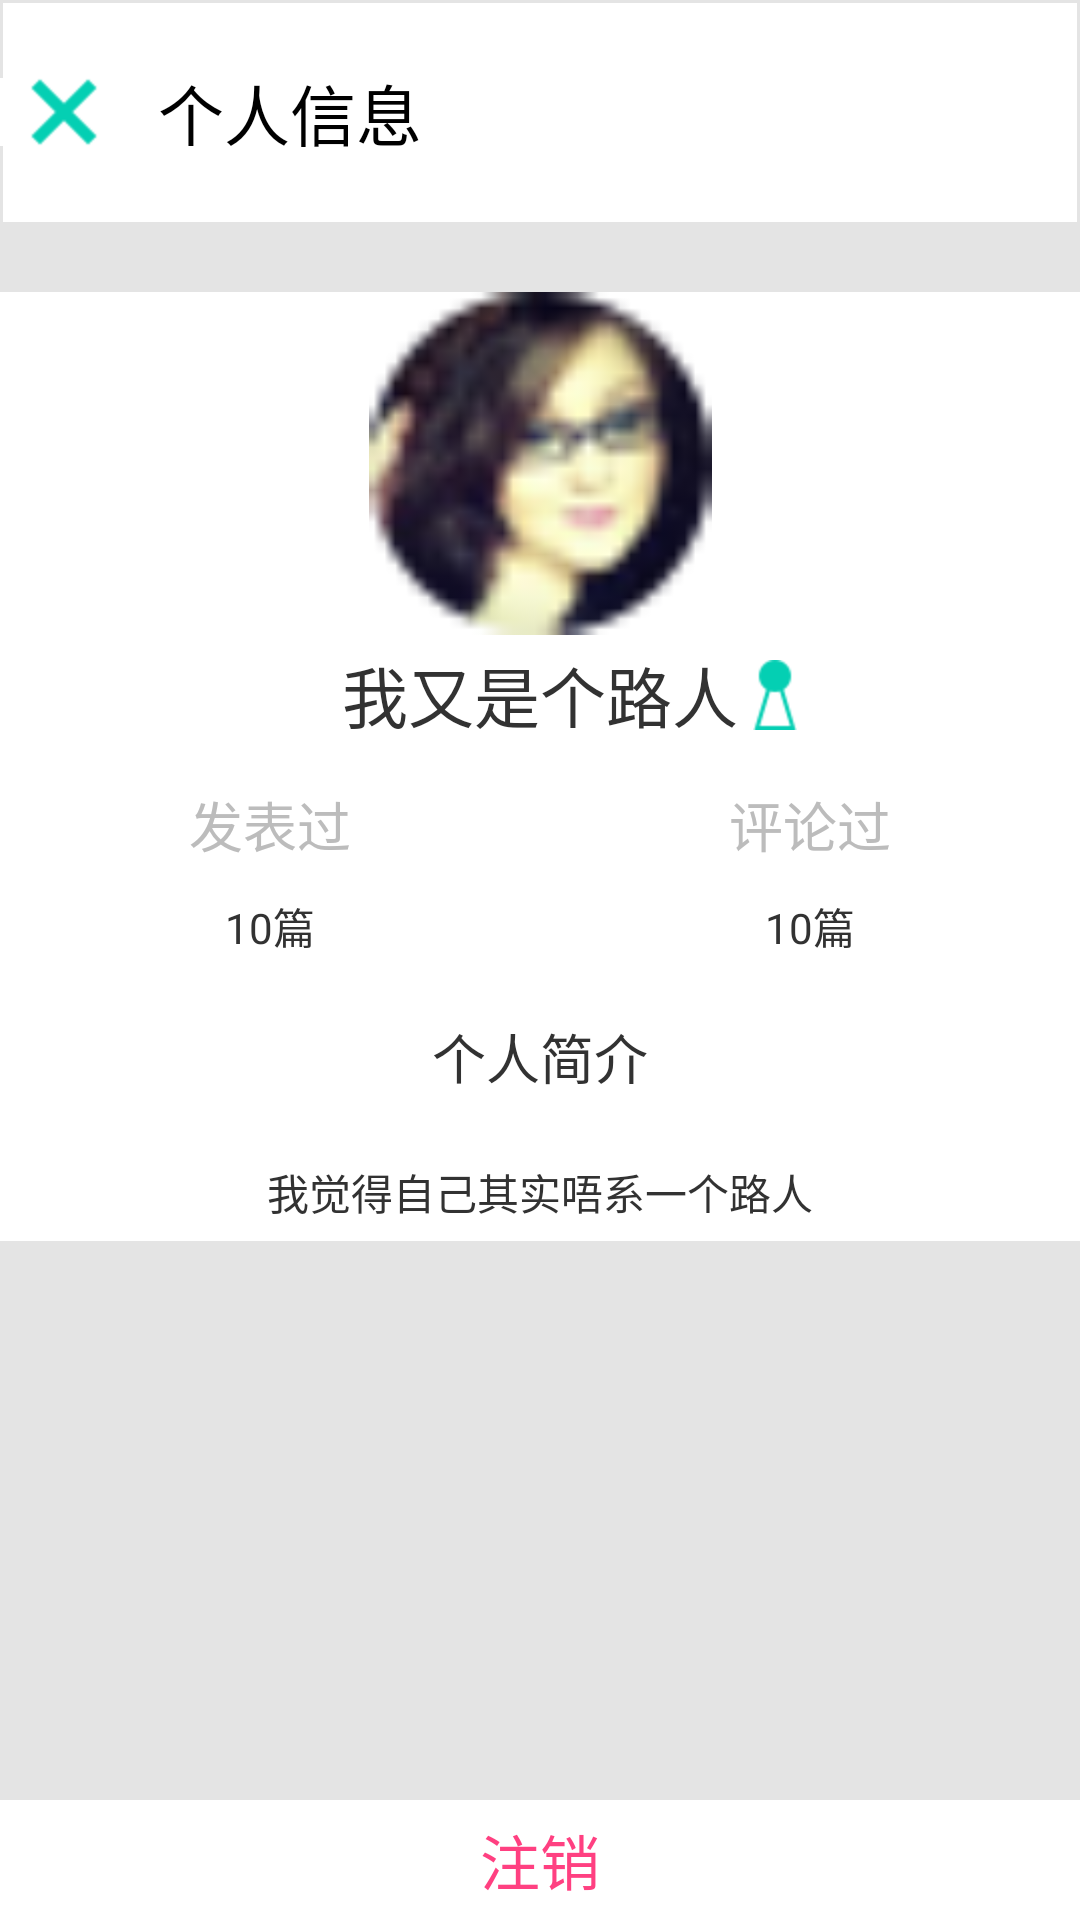

Named icons in this screenshot (1080*1920) and their centers, (x,y):
cyan back: (64,112)
user sex girl: (775,695)
